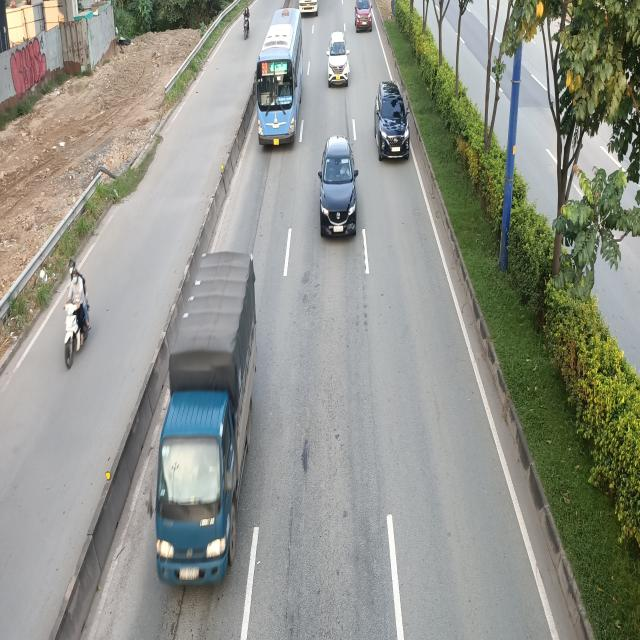car: (320, 140, 360, 240), (372, 82, 408, 161), (328, 34, 351, 89), (354, 0, 374, 31)
coach: (253, 8, 304, 146)
truck: (141, 252, 253, 587)
